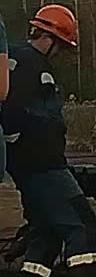helmet: (28, 3, 78, 47)
vest: (1, 43, 68, 174)
